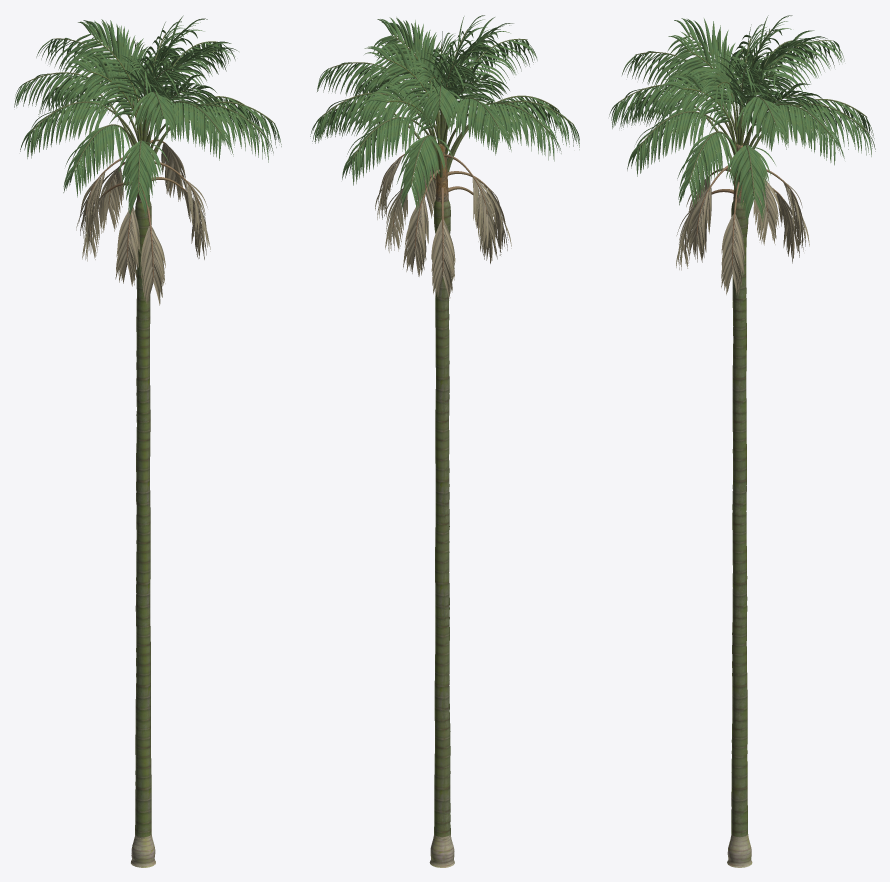
The model's file is Xfrog (OC13_9.xfr).fbx.
3 views of the same model, side by side, from view 1: azimuth 30°, elevation 25°; view 2: azimuth 150°, elevation 25°; view 3: azimuth 270°, elevation 25° (orthographic).
Parts seen in each view (by area): view 1: Xfrog__OC13_9_xfr_; view 2: Xfrog__OC13_9_xfr_; view 3: Xfrog__OC13_9_xfr_.
Part boxes in pixels (x1,y1,x2,y2): Xfrog__OC13_9_xfr_: (14, 15, 281, 867); Xfrog__OC13_9_xfr_: (310, 15, 579, 867); Xfrog__OC13_9_xfr_: (609, 15, 875, 867).
Bounding box in the file's own units: 83.3 × 280 × 81.08.
